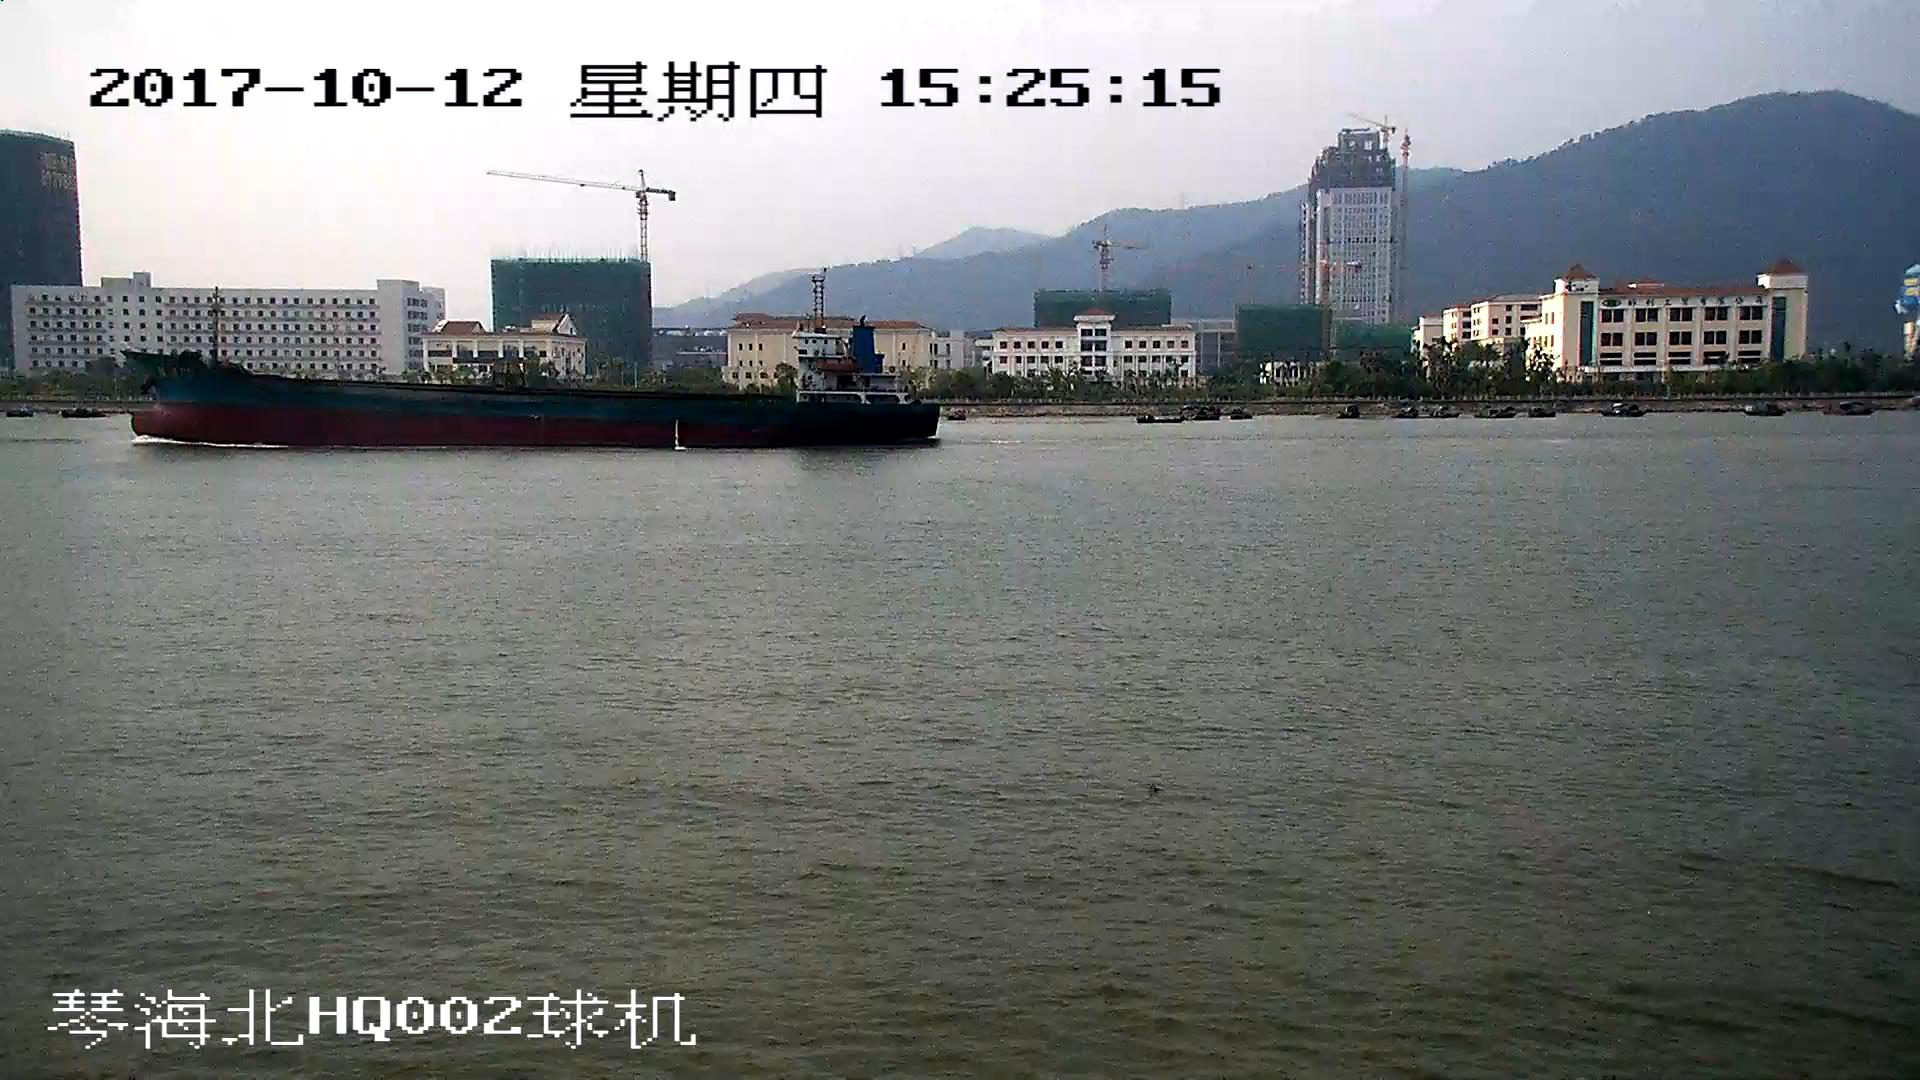general cargo ship: (117, 328, 936, 450)
